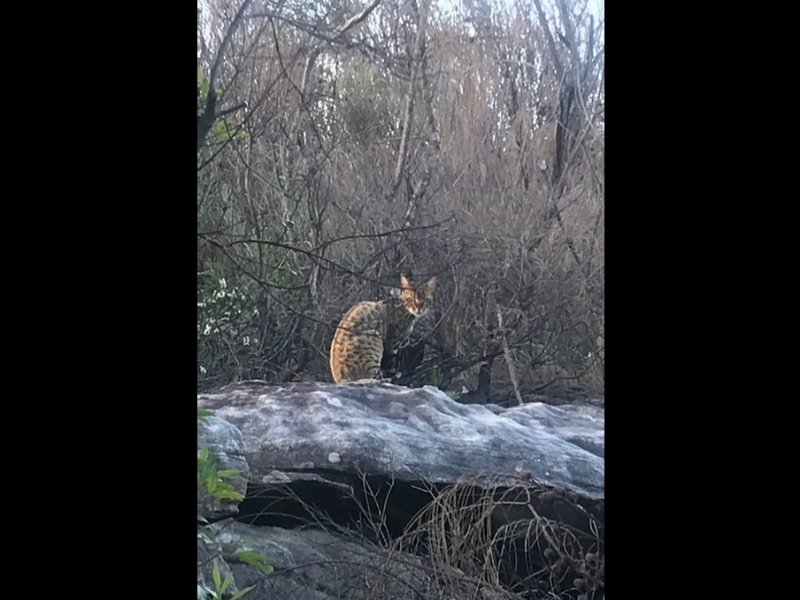cat: (328, 269, 437, 387)
